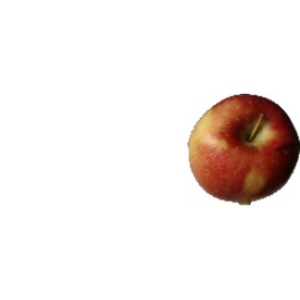maçã braeburn: (185, 89, 298, 206)
